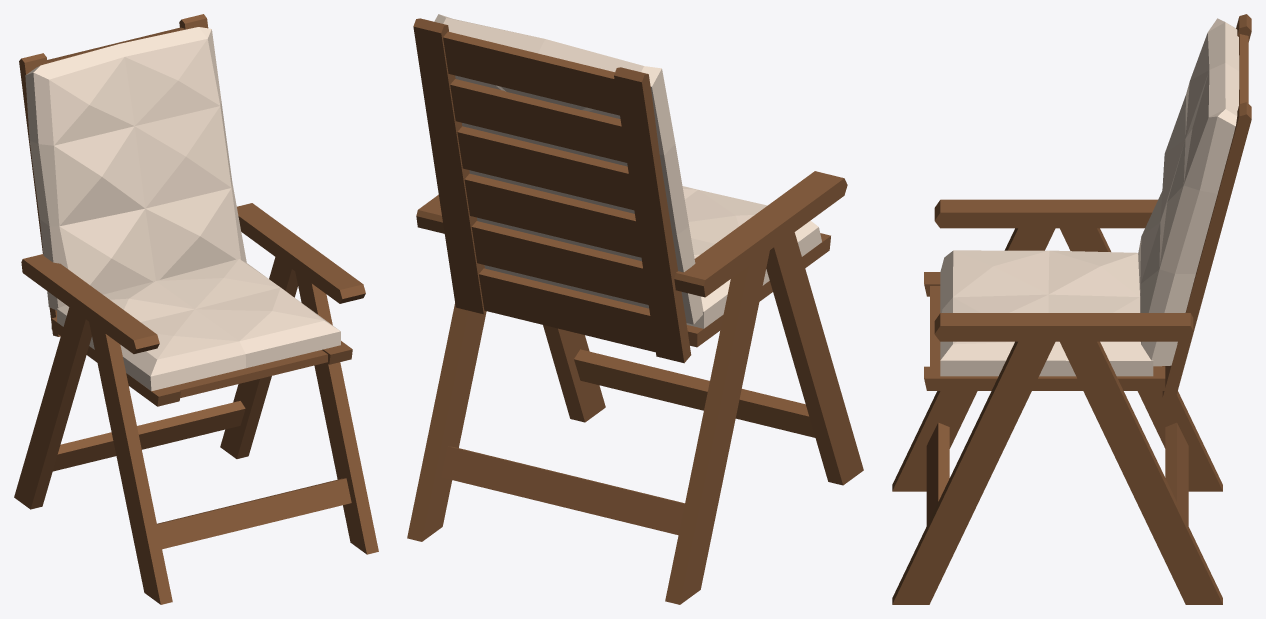
The model's file is furniture-chair-outside-wooden-cusion.glb.
3 views of the same model, side by side, from view 1: azimuth 30°, elevation 25°; view 2: azimuth 150°, elevation 25°; view 3: azimuth 270°, elevation 25° (orthographic). The views are drawn at different scales.
Visible parts, largest first — view 1: chair-outside-wooden-cusion; view 2: chair-outside-wooden-cusion; view 3: chair-outside-wooden-cusion.
Boxes of the visible parts, x1=… form: chair-outside-wooden-cusion: x1=14, y1=14, x2=378, y2=604; chair-outside-wooden-cusion: x1=407, y1=14, x2=863, y2=604; chair-outside-wooden-cusion: x1=892, y1=14, x2=1251, y2=604.
Bounding box in the file's own units: 0.632 × 1.12 × 0.7607.
